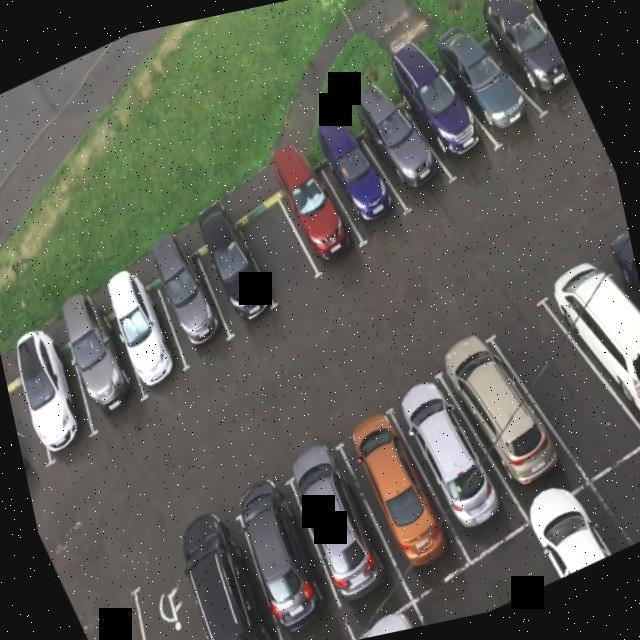car: (267, 421, 416, 640), (330, 390, 468, 602), (438, 322, 578, 530), (387, 374, 516, 573), (218, 467, 356, 640), (153, 491, 305, 640), (255, 124, 378, 302), (543, 237, 640, 458), (39, 287, 164, 455), (131, 226, 249, 386), (436, 14, 544, 176), (94, 260, 206, 414), (347, 73, 453, 234), (391, 42, 495, 200), (182, 196, 286, 347), (304, 106, 411, 252), (3, 331, 106, 478), (479, 0, 585, 133), (512, 470, 626, 586), (5, 366, 73, 506), (605, 212, 640, 423), (343, 605, 431, 640)
free: (491, 287, 640, 507), (218, 170, 340, 343), (97, 538, 237, 640), (583, 426, 640, 550), (73, 587, 172, 640)
